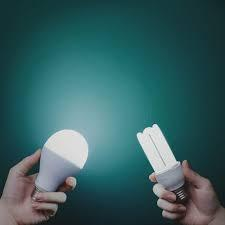Lamp: (130, 117, 197, 209), (29, 121, 95, 201)
